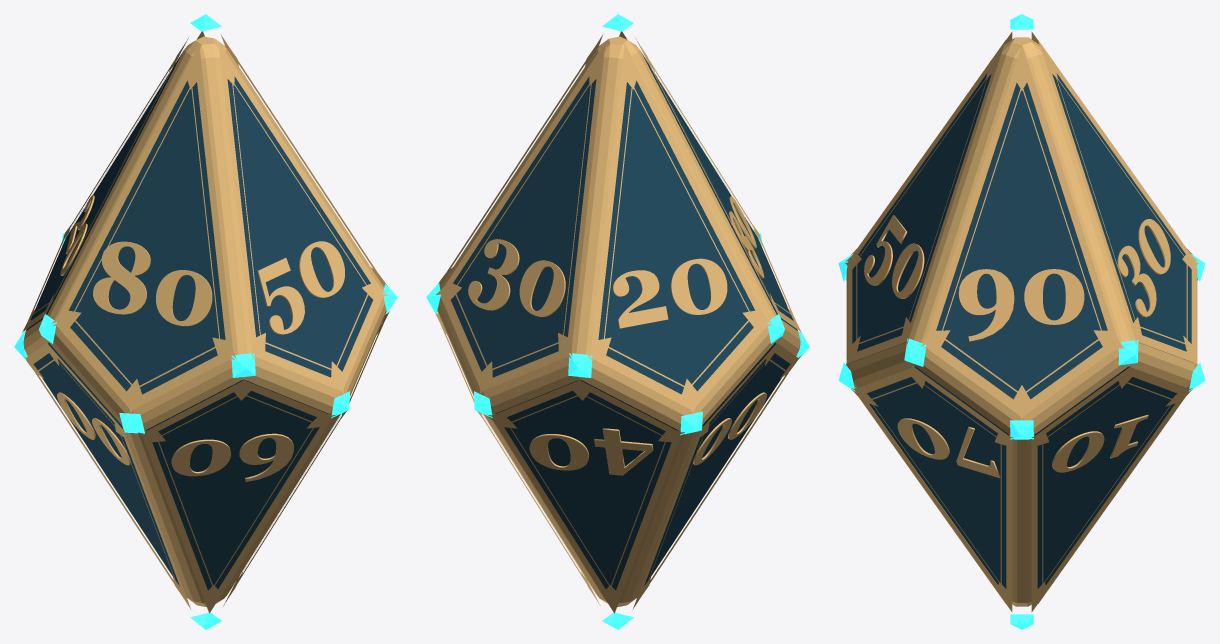
3 renders of one model, left to right at view 1: azimuth 30°, elevation 25°; view 2: azimuth 150°, elevation 25°; view 3: azimuth 270°, elevation 25°, orthographic.
Visible parts, largest first — view 1: D100_Body, D100_Inlay.007, D100_Inlay.009, D100_Inlay.008, D100_Number_80_Mesh, D100_Number_50_Mesh, D100_Jewels, D100_Number_60_Mesh, D100_Inlay, D100_Inlay.002, D100_Number_00_Mesh, D100_Inlay.004 (+2 smaller); view 2: D100_Body, D100_Inlay.002, D100_Inlay.003, D100_Inlay.005, D100_Number_20_Mesh, D100_Number_30_Mesh, D100_Jewels, D100_Number_40_Mesh, D100_Inlay, D100_Inlay.007, D100_Number_00_Mesh, D100_Number_80_Mesh (+2 smaller); view 3: D100_Body, D100_Inlay.004, D100_Inlay.006, D100_Inlay.001, D100_Inlay.009, D100_Inlay.003, D100_Number_90_Mesh, D100_Jewels, D100_Number_30_Mesh, D100_Number_50_Mesh, D100_Number_70_Mesh, D100_Number_10_Mesh.
Boxes of the visible parts, x1,y1,x2,y2 form: D100_Body: (23, 36, 386, 607); D100_Inlay.007: (51, 44, 236, 413); D100_Inlay.009: (218, 42, 387, 393); D100_Inlay.008: (138, 379, 336, 613); D100_Number_80_Mesh: (93, 241, 212, 326); D100_Number_50_Mesh: (257, 241, 344, 334); D100_Jewels: (14, 14, 397, 629); D100_Number_60_Mesh: (171, 433, 293, 482); D100_Inlay: (24, 342, 190, 608); D100_Inlay.002: (22, 38, 188, 332); D100_Number_00_Mesh: (57, 392, 130, 465); D100_Inlay.004: (221, 35, 387, 287); D100_Body: (437, 36, 800, 607); D100_Inlay.002: (587, 44, 772, 413); D100_Inlay.003: (436, 42, 605, 393); D100_Inlay.005: (487, 379, 684, 613); D100_Number_20_Mesh: (612, 258, 727, 328); D100_Number_30_Mesh: (468, 239, 565, 316); D100_Jewels: (426, 14, 809, 629); D100_Number_40_Mesh: (529, 428, 653, 475); D100_Inlay: (633, 342, 801, 608); D100_Inlay.007: (635, 38, 801, 332); D100_Number_00_Mesh: (693, 392, 766, 465); D100_Number_80_Mesh: (729, 196, 764, 278); D100_Body: (846, 37, 1197, 606); D100_Inlay.004: (921, 45, 1123, 419); D100_Inlay.006: (851, 366, 1013, 612); D100_Inlay.001: (1030, 366, 1192, 612); D100_Inlay.009: (845, 40, 1005, 365); D100_Inlay.003: (1038, 40, 1198, 365); D100_Number_90_Mesh: (958, 269, 1084, 341); D100_Jewels: (838, 14, 1205, 629); D100_Number_30_Mesh: (1117, 219, 1170, 317); D100_Number_50_Mesh: (864, 215, 924, 298); D100_Number_70_Mesh: (897, 418, 1000, 478); D100_Number_10_Mesh: (1052, 414, 1148, 472).
Size of what is drawn, in the model's own units: 0.8093 by 1.43 by 0.7697.
